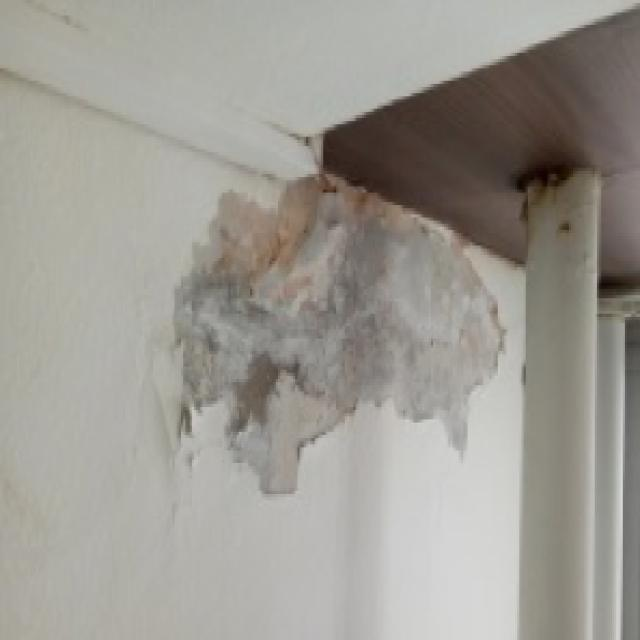Water_Leakage: (143, 136, 601, 534)
